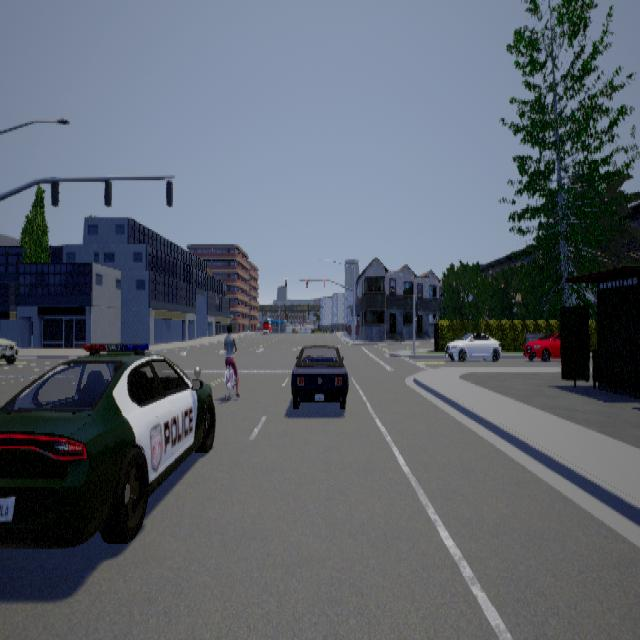bike: (217, 322, 244, 406)
red_light: (323, 279, 325, 288), (306, 279, 308, 287)
vehicle: (0, 342, 215, 547), (290, 343, 348, 408), (444, 332, 501, 360), (522, 332, 560, 360)
